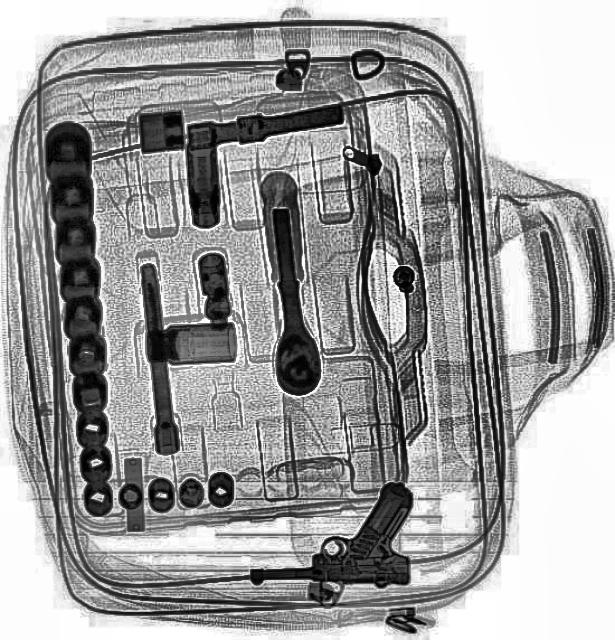Gun: (249, 482, 413, 584)
